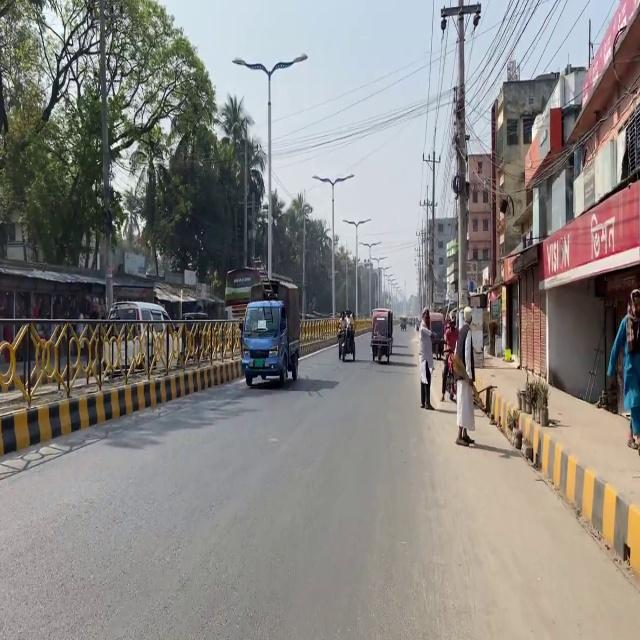Broken-road: (239, 276, 300, 387)
Construction-barrier: (558, 468, 640, 568)
Fallen-tree: (336, 319, 355, 362), (370, 333, 392, 363)
Garbage-bin: (606, 288, 639, 449), (451, 306, 477, 444), (417, 308, 435, 409)
Pole: (6, 310, 222, 454)
Pothole: (506, 370, 640, 568)
